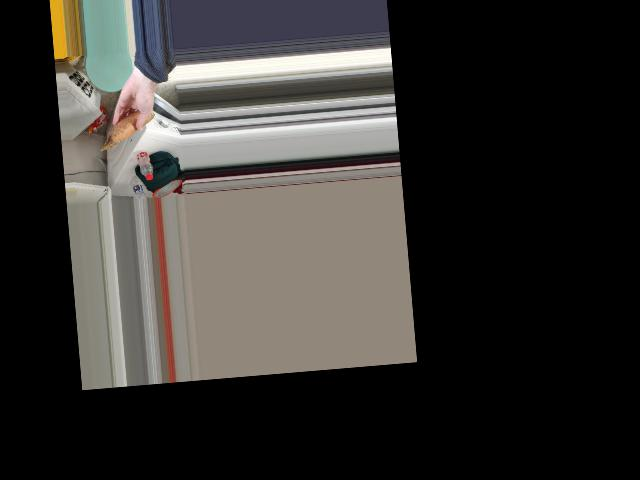sweet_potato: (112, 112, 150, 140)
